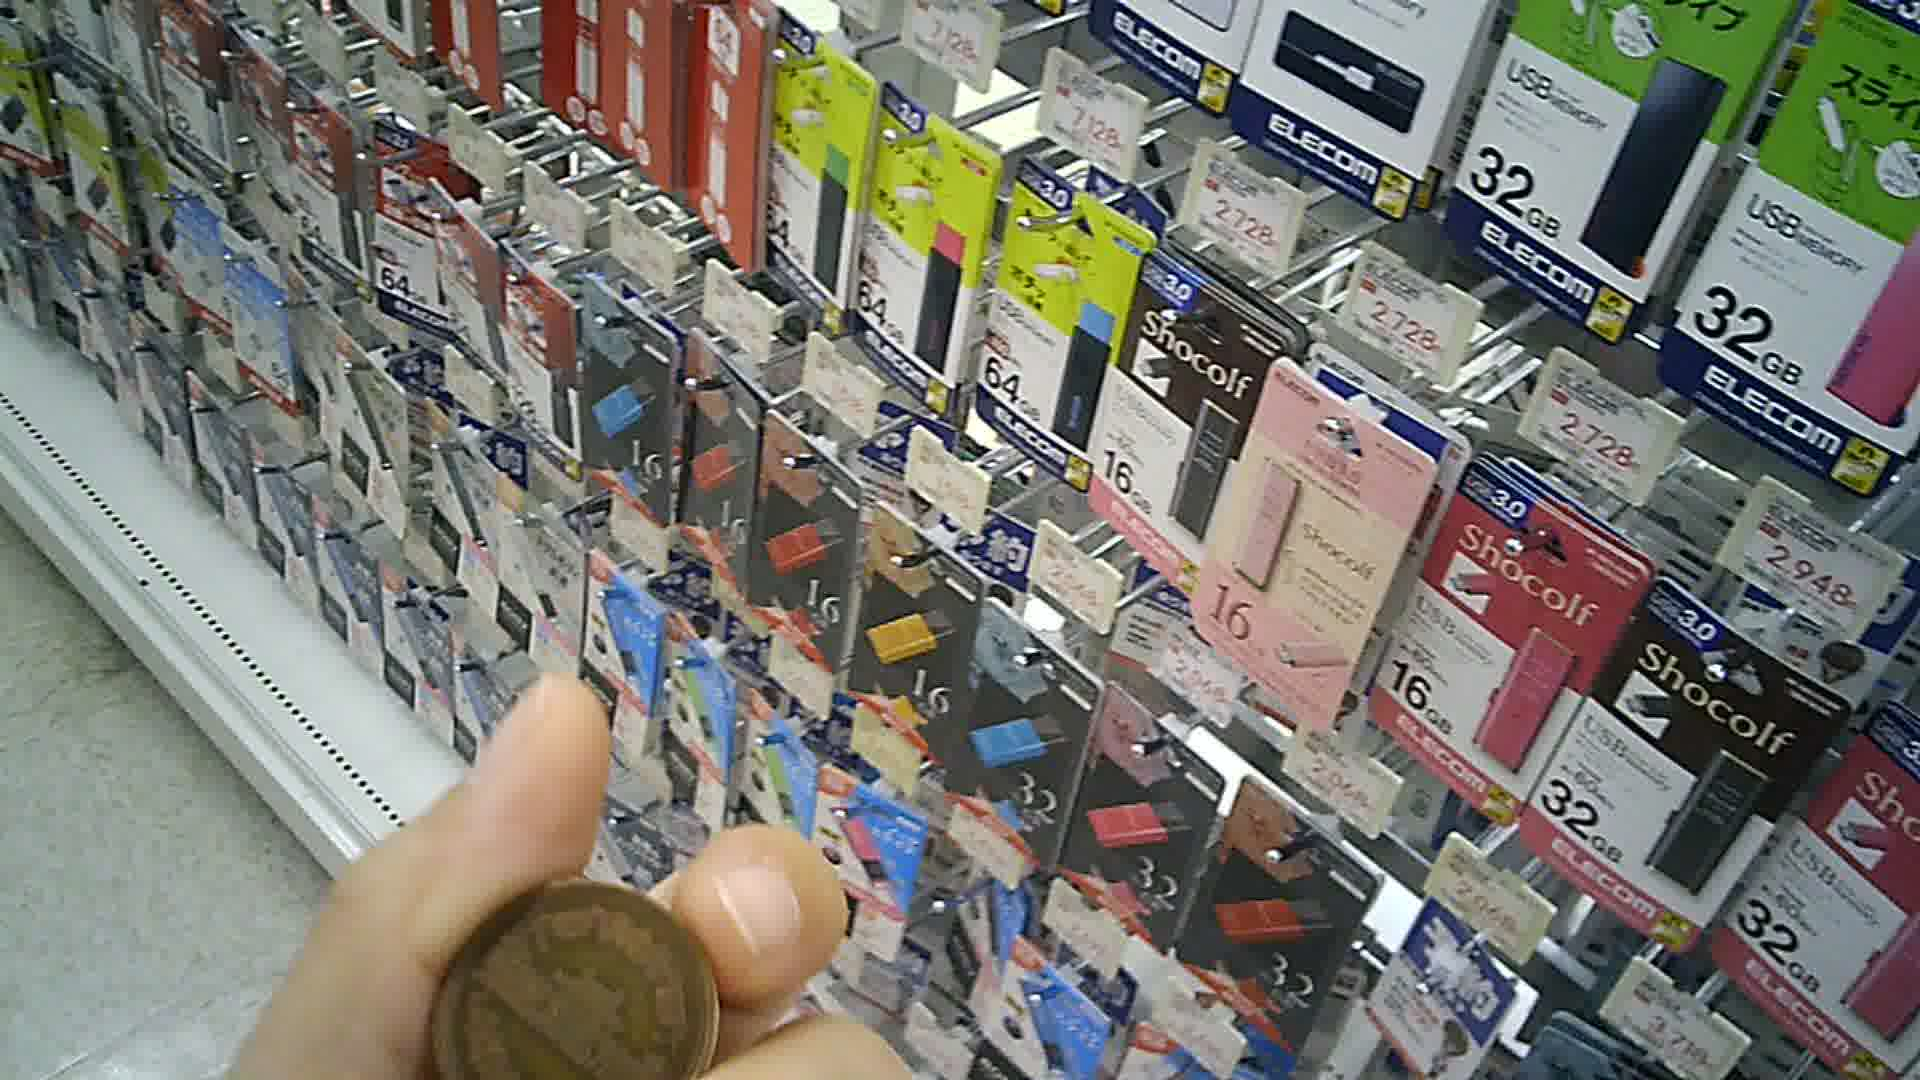10 Yen: (417, 869, 729, 1077)
